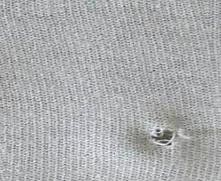hole: (147, 126, 180, 150)
